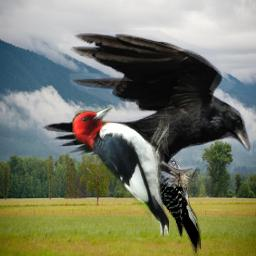Crow: (37, 30, 253, 187)
Woodpecker: (72, 106, 169, 236), (134, 133, 201, 256)
